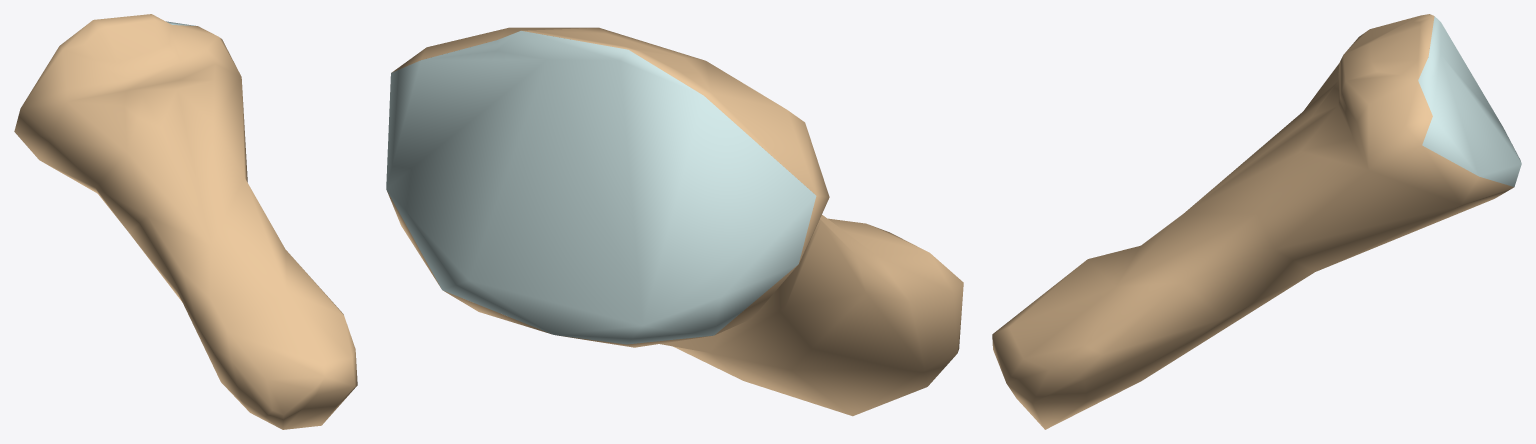
Rendered from Distal_phalanx_of_3d_finger.l_Generated_Mesh_From_X3D.732.glb.
3 views of the same model, side by side, from view 1: azimuth 30°, elevation 25°; view 2: azimuth 150°, elevation 25°; view 3: azimuth 270°, elevation 25° (orthographic). The views are drawn at different scales.
Parts seen in each view (by area): view 1: Distal_phalanx_of_3d_finger.l_Generated_Mesh_From_X3D.732; view 2: Distal_phalanx_of_3d_finger.l_Generated_Mesh_From_X3D.732; view 3: Distal_phalanx_of_3d_finger.l_Generated_Mesh_From_X3D.732.
Boxes of the visible parts, <box> form: Distal_phalanx_of_3d_finger.l_Generated_Mesh_From_X3D.732: <box>14,14,357,429</box>; Distal_phalanx_of_3d_finger.l_Generated_Mesh_From_X3D.732: <box>386,27,963,416</box>; Distal_phalanx_of_3d_finger.l_Generated_Mesh_From_X3D.732: <box>992,14,1521,429</box>.
Bounding box in the file's own units: 0.00986 × 0.0139 × 0.0179.
